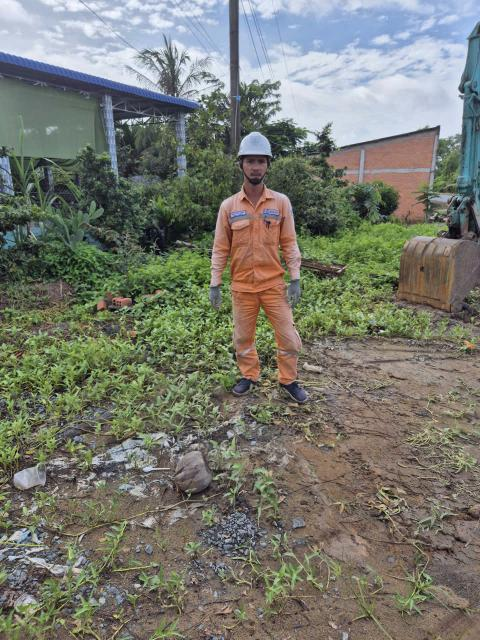gloves: (201, 280, 228, 314), (284, 274, 308, 306)
helmet: (234, 129, 278, 162)
shoes: (274, 376, 314, 404), (229, 372, 258, 401)
